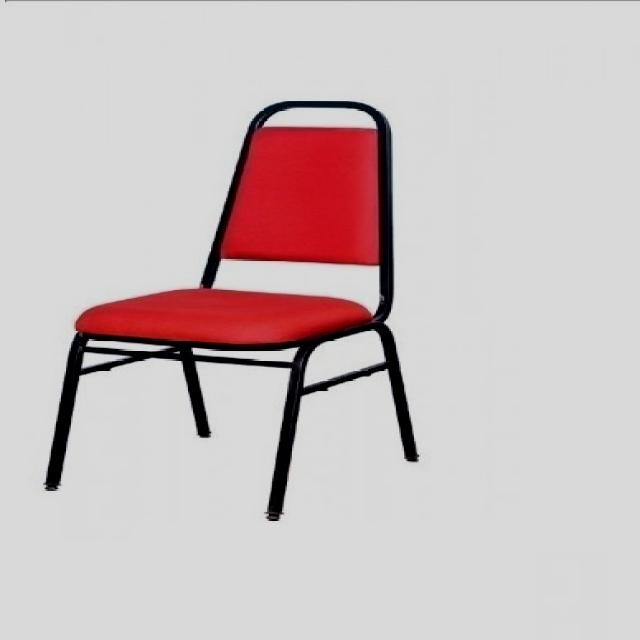Chair: (41, 99, 435, 525)
